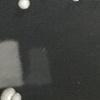white: (13, 0, 34, 12), (0, 86, 16, 100), (9, 90, 22, 100), (68, 0, 83, 4)
